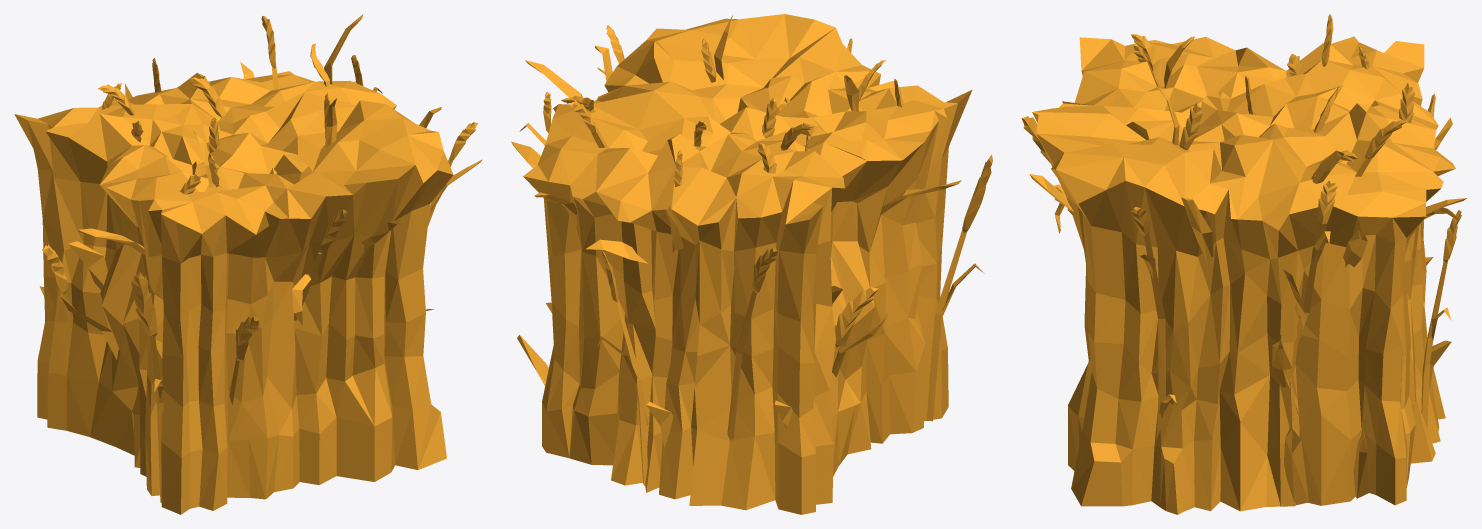
File: SM_Wheat_Mature_Square_1x1m_A.fbx
3 views of the same model, side by side, from view 1: azimuth 30°, elevation 25°; view 2: azimuth 150°, elevation 25°; view 3: azimuth 270°, elevation 25° (orthographic). The views are drawn at different scales.
Parts seen in each view (by area): view 1: wheat-mature-square-1x1m-a; view 2: wheat-mature-square-1x1m-a; view 3: wheat-mature-square-1x1m-a.
Boxes of the visible parts, x1,y1,x2,y2 form: wheat-mature-square-1x1m-a: (14, 14, 482, 514); wheat-mature-square-1x1m-a: (511, 14, 992, 514); wheat-mature-square-1x1m-a: (1021, 14, 1466, 514).
Bounding box in the file's own units: 1.54 × 1.37 × 1.45.
